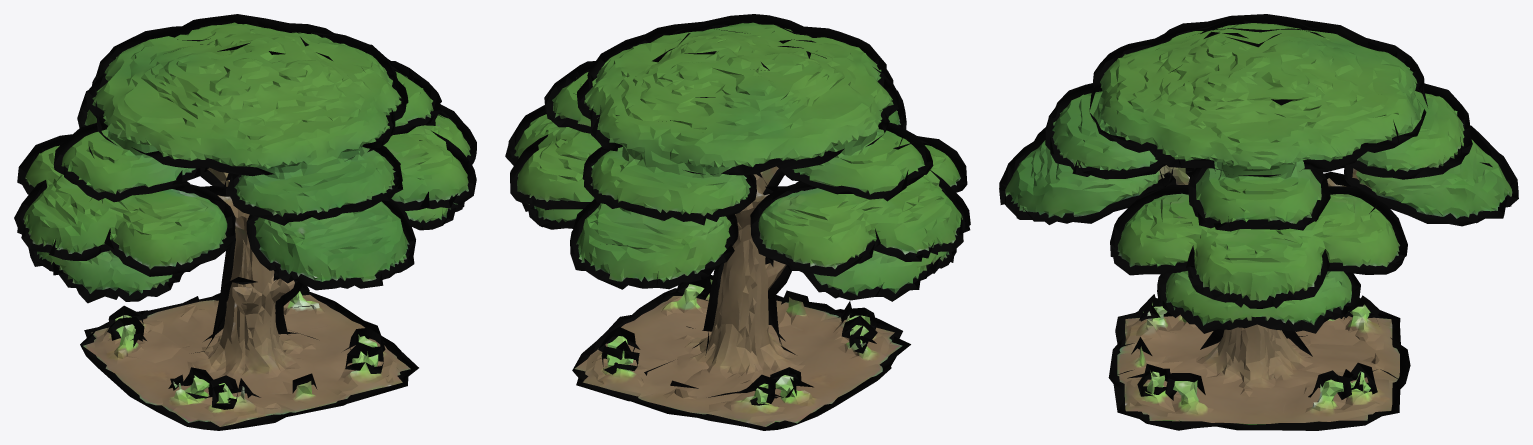
The model's file is Ghibli_Tree_G.glb.
3 renders of one model, left to right at view 1: azimuth 30°, elevation 25°; view 2: azimuth 150°, elevation 25°; view 3: azimuth 270°, elevation 25°, orthographic. The views are drawn at different scales.
Parts seen in each view (by area): view 1: TreeG, TreeG_OutlineHull; view 2: TreeG, TreeG_OutlineHull; view 3: TreeG, TreeG_OutlineHull.
Boxes of the visible parts, x1,y1,x2,y2 form: TreeG: [23, 22, 470, 426]; TreeG_OutlineHull: [14, 14, 476, 430]; TreeG: [514, 22, 962, 426]; TreeG_OutlineHull: [505, 14, 970, 430]; TreeG: [1005, 23, 1512, 424]; TreeG_OutlineHull: [999, 14, 1518, 430].
Bounding box in the file's own units: 1.95 × 1.33 × 1.93.
2 materials, 1 textured.
